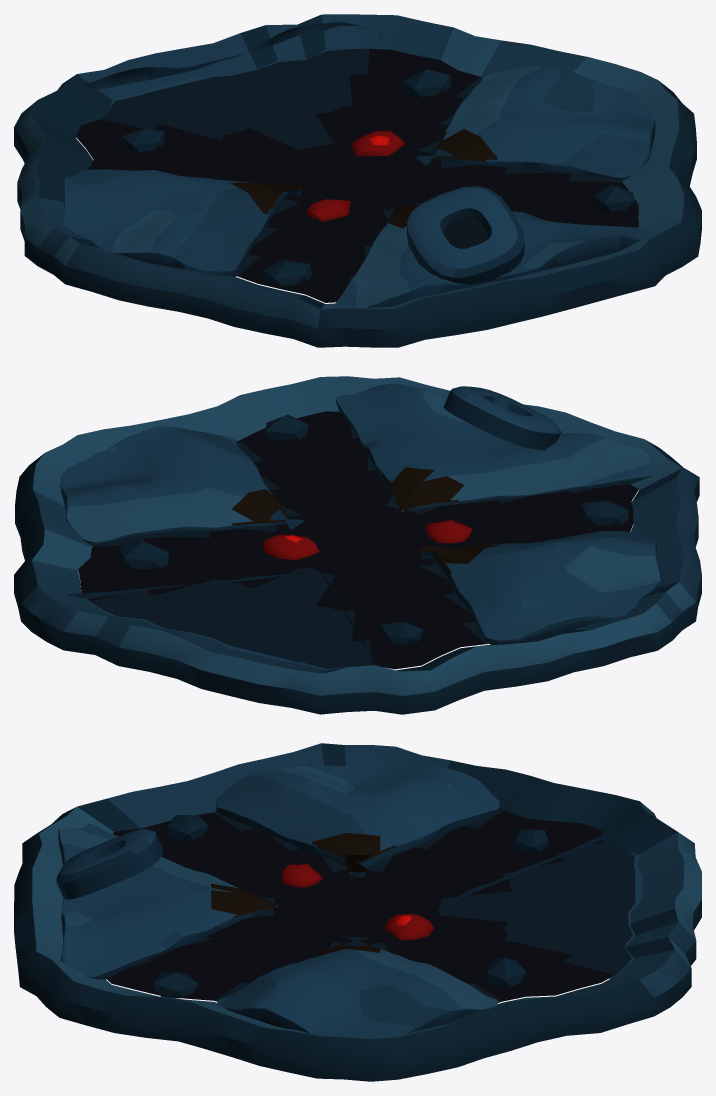
File: fruit_hex_pod_wreck.glb
The picture shows the model from 3 angles, top to bottom: view 1: azimuth 30°, elevation 25°; view 2: azimuth 150°, elevation 25°; view 3: azimuth 270°, elevation 25°; orthographic projection.
Parts seen in each view (by area): view 1: fruit_hex_pod_wreck; view 2: fruit_hex_pod_wreck; view 3: fruit_hex_pod_wreck.
Boxes of the visible parts, x1,y1,x2,y2 form: fruit_hex_pod_wreck: (14,14,701,347); fruit_hex_pod_wreck: (14,376,701,714); fruit_hex_pod_wreck: (14,743,701,1081).
Size of the model in its own units: 12.97 by 1.63 by 12.12.
